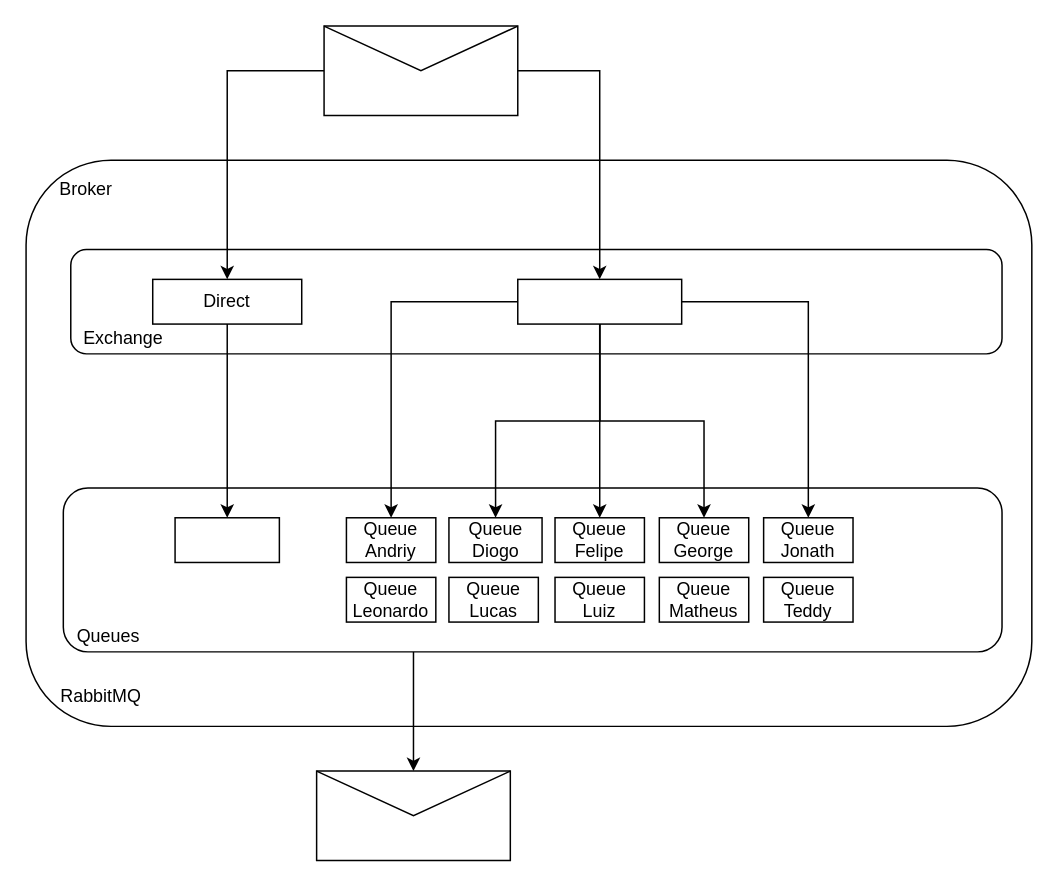
This 1058x887 diagram has some shape labels left out. The shapes that lost their labels are listed below. From the top down, each one's centre as x and y in pixels, then its label:
the point at 420,70: Producer
the point at 599,301: Fanout
the point at 226,539: Queue 1
the point at 412,815: Consumer
